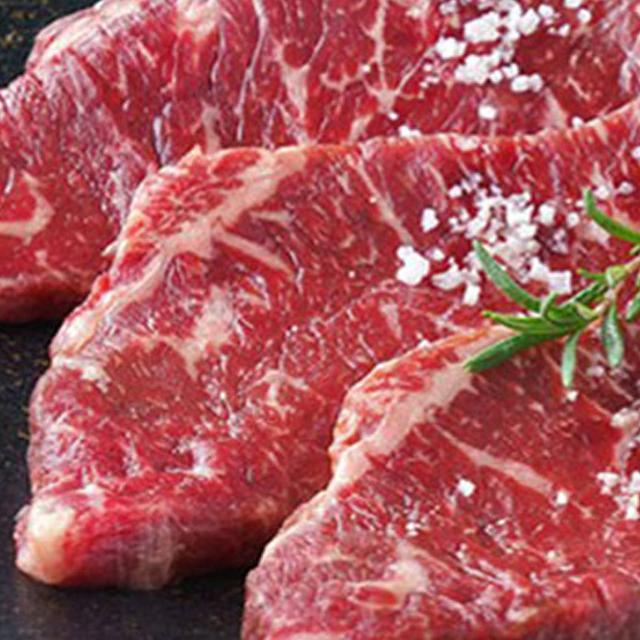beef: (36, 90, 446, 474)
